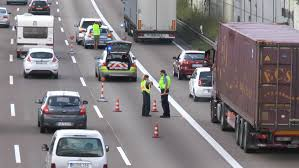car: (41, 130, 111, 168), (35, 89, 88, 132), (94, 40, 138, 81), (19, 48, 63, 80), (173, 50, 212, 80), (187, 67, 216, 100), (84, 26, 112, 52), (76, 17, 102, 44), (29, 1, 51, 16)
cone: (111, 96, 124, 113), (97, 81, 107, 103), (151, 122, 162, 140), (66, 38, 77, 55), (151, 98, 158, 112)
